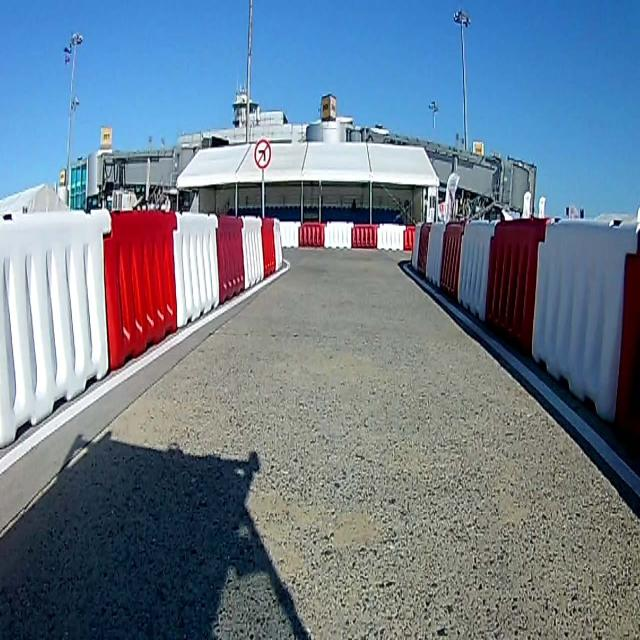soladonulmez: (255, 140, 271, 168)
